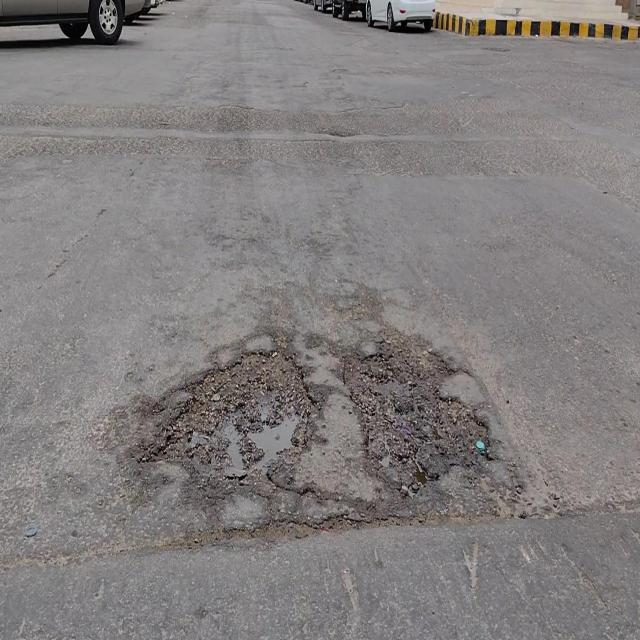Potholes: (342, 326, 483, 491), (164, 347, 308, 481)
